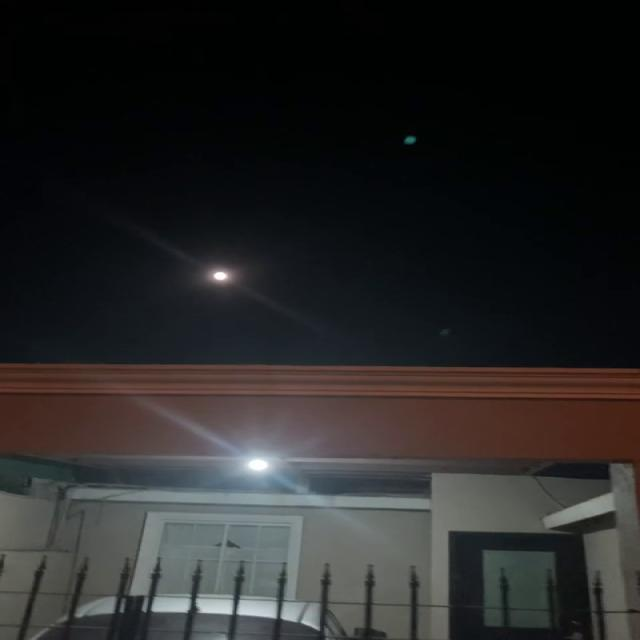moon: (210, 265, 246, 289)
